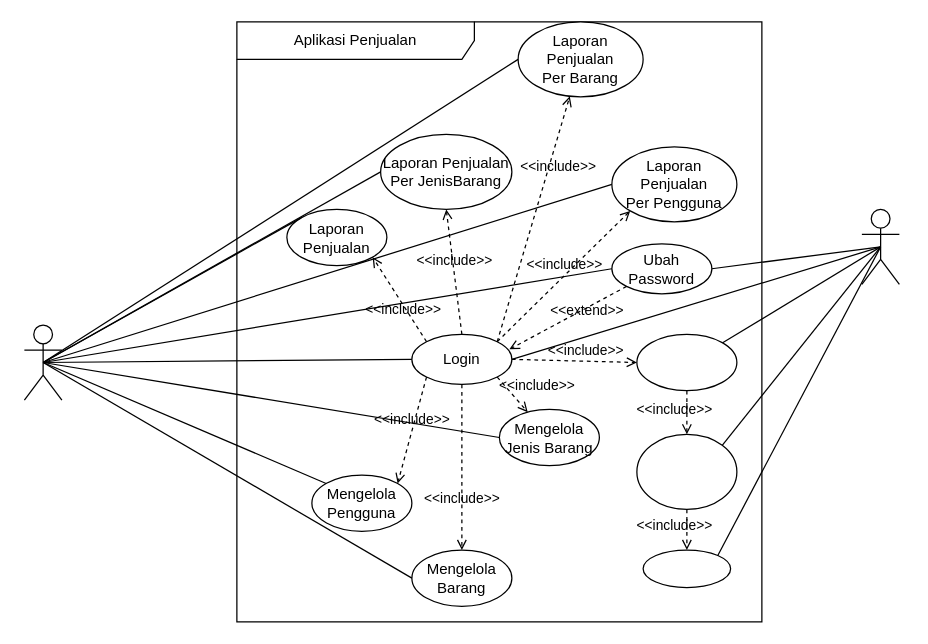
This 928x644 diagram has some shape labels left out. The shapes that lost their labels are listed below. From the top down, each one's centre as x and y in pixels, then its label:
At (x=880, y=246): "Cashier".
At (x=42, y=362): "Admin".
At (x=686, y=362): "Mencatat Penjualan".
At (x=686, y=471): "Detail Penjualan (item)".
At (x=686, y=568): "Selesai".
